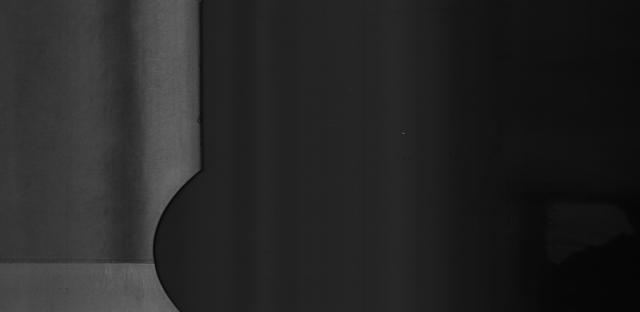crescent_gap: (142, 158, 209, 312)
welding_line: (2, 252, 157, 270)
